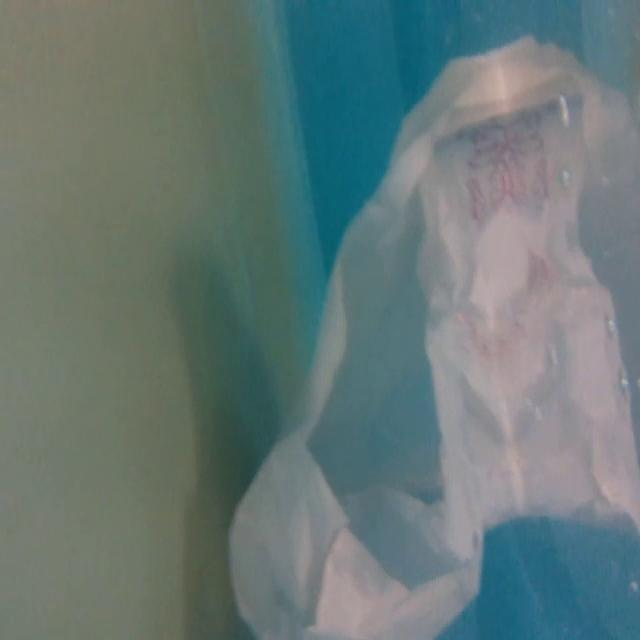plastic bags: (224, 36, 639, 640)
